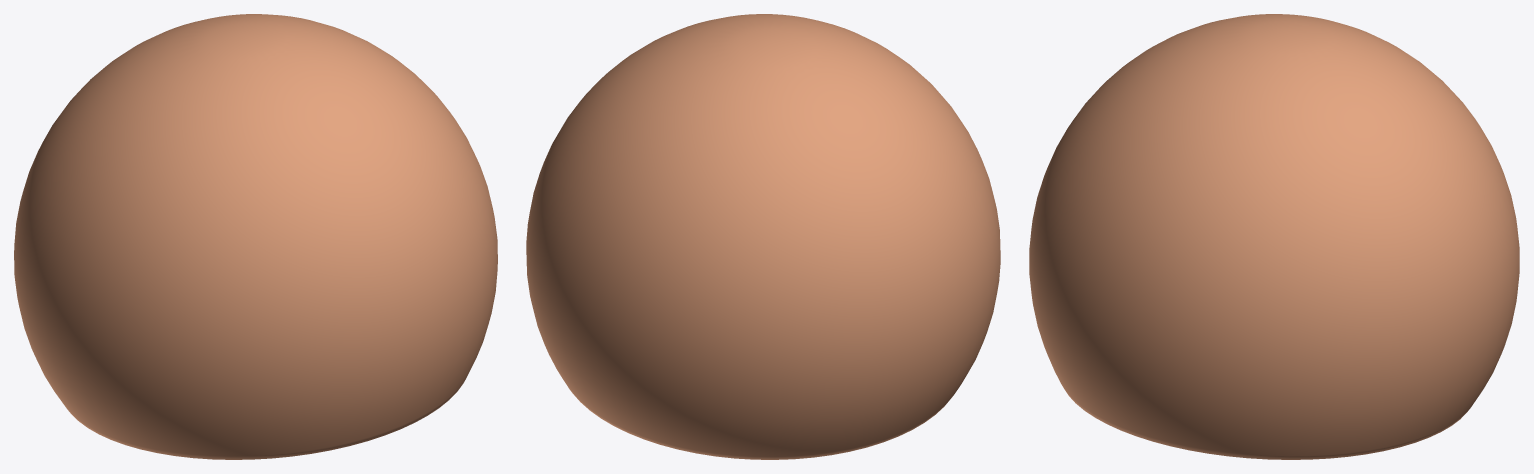
The picture shows the model from 3 angles, left to right: view 1: azimuth 30°, elevation 25°; view 2: azimuth 150°, elevation 25°; view 3: azimuth 270°, elevation 25°; orthographic projection. The views are drawn at different scales.
Visible parts, largest first — view 1: 左侧视网膜; view 2: 左侧视网膜; view 3: 左侧视网膜.
Part boxes in pixels (left/top/right/bottom): 左侧视网膜: left=14, top=14, right=497, bottom=459; 左侧视网膜: left=526, top=14, right=1000, bottom=459; 左侧视网膜: left=1029, top=14, right=1519, bottom=459.
Bounding box in the file's own units: 0.032 × 0.0256 × 0.032.
